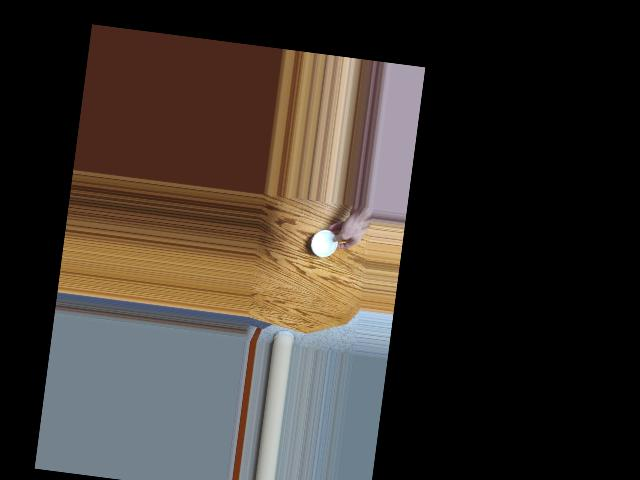cotage: (309, 221, 345, 259)
